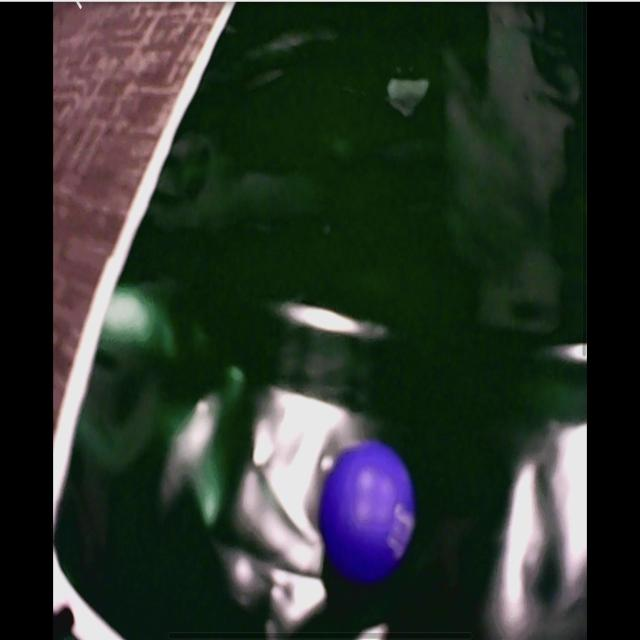ball: (321, 442, 414, 583)
